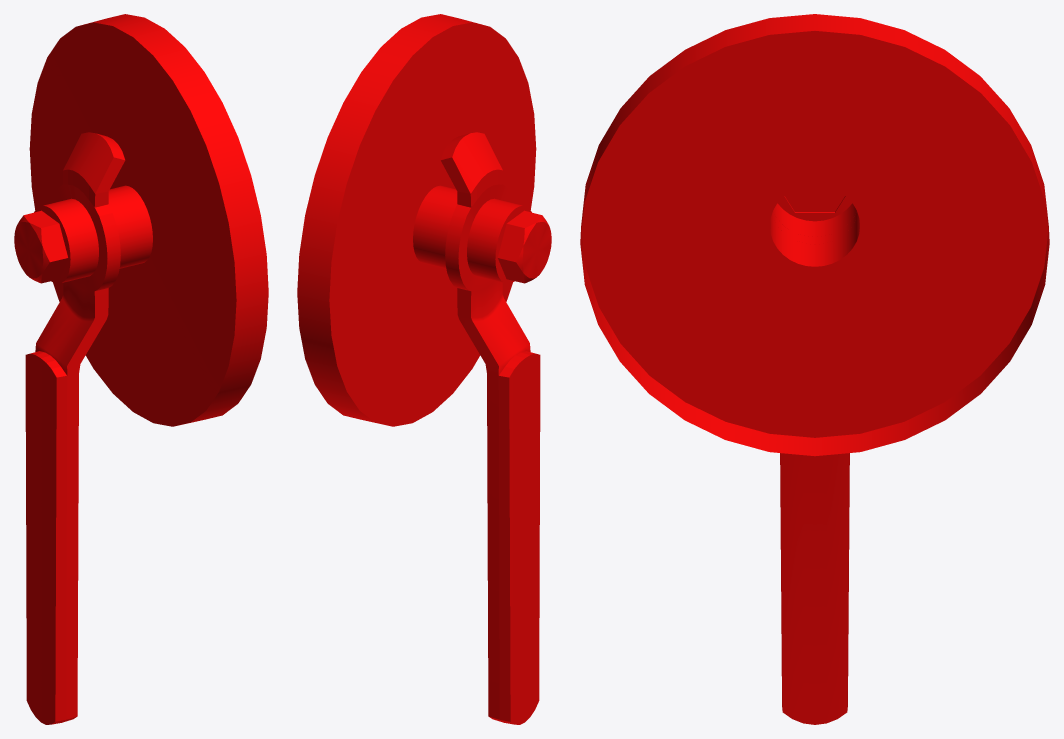
File: Dungeon_Pipe_Switch.FBX
The picture shows the model from 3 angles, left to right: view 1: azimuth 30°, elevation 25°; view 2: azimuth 150°, elevation 25°; view 3: azimuth 270°, elevation 25°; orthographic projection. The views are drawn at different scales.
Parts seen in each view (by area): view 1: Base_switch, Switch; view 2: Base_switch, Switch; view 3: Base_switch, Switch.
Boxes of the visible parts, x1,y1,x2,y2 form: Base_switch: [14, 14, 268, 426]; Switch: [25, 132, 125, 724]; Base_switch: [297, 14, 551, 426]; Switch: [440, 132, 540, 724]; Base_switch: [580, 14, 1049, 456]; Switch: [780, 224, 849, 724].
Size of the model in its own units: 5.77 by 26.88 by 15.23.
